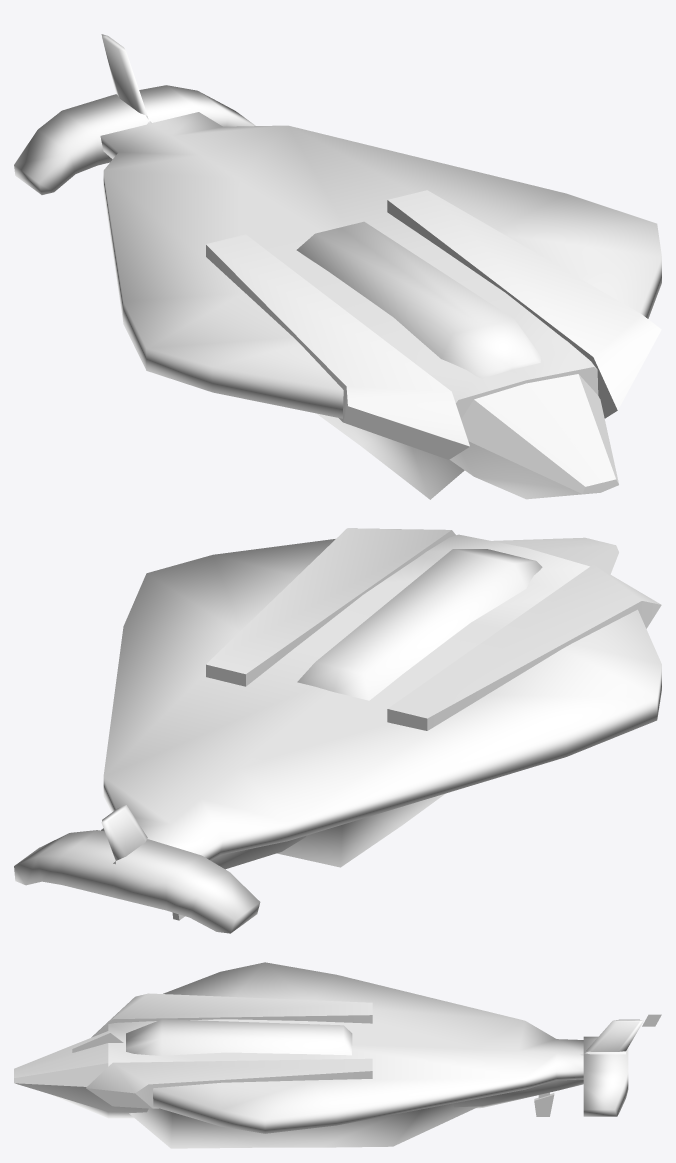
The model's file is havenj2-mesh.glb.
3 views of the same model, one above another, from view 1: azimuth 30°, elevation 25°; view 2: azimuth 150°, elevation 25°; view 3: azimuth 270°, elevation 25° (orthographic). The views are drawn at different scales.
Visible parts, largest first — view 1: havenj2-props; view 2: havenj2-props; view 3: havenj2-props.
Part boxes in pixels (bbox=[...]): havenj2-props: bbox=[14, 34, 661, 499]; havenj2-props: bbox=[14, 528, 661, 933]; havenj2-props: bbox=[14, 962, 661, 1148].
Bounding box in the file's own units: 115 × 41.03 × 201.
1 material, 1 textured.
